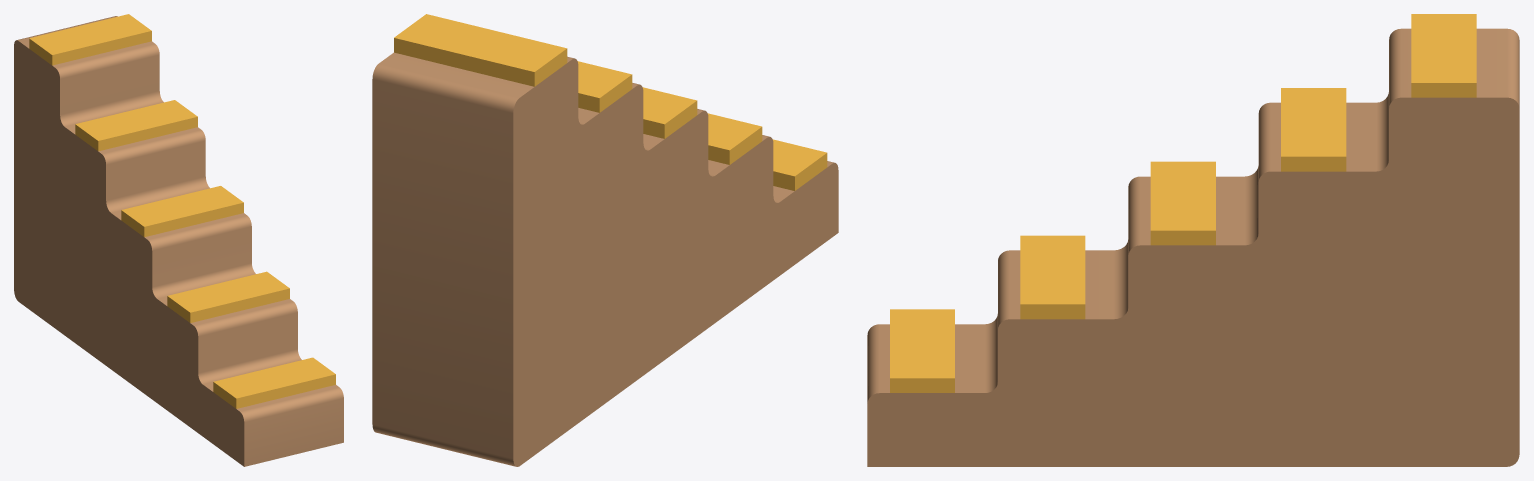
The model's file is Fans Tribune B.fbx.
3 views of the same model, side by side, from view 1: azimuth 30°, elevation 25°; view 2: azimuth 150°, elevation 25°; view 3: azimuth 270°, elevation 25° (orthographic). The views are drawn at different scales.
Visible parts, largest first — view 1: Fans Tribune B; view 2: Fans Tribune B; view 3: Fans Tribune B.
Part boxes in pixels (bbox=[...]): Fans Tribune B: bbox=[14, 14, 343, 466]; Fans Tribune B: bbox=[372, 14, 838, 466]; Fans Tribune B: bbox=[867, 14, 1519, 466].
Bounding box in the file's own units: 136 × 354 × 544.
